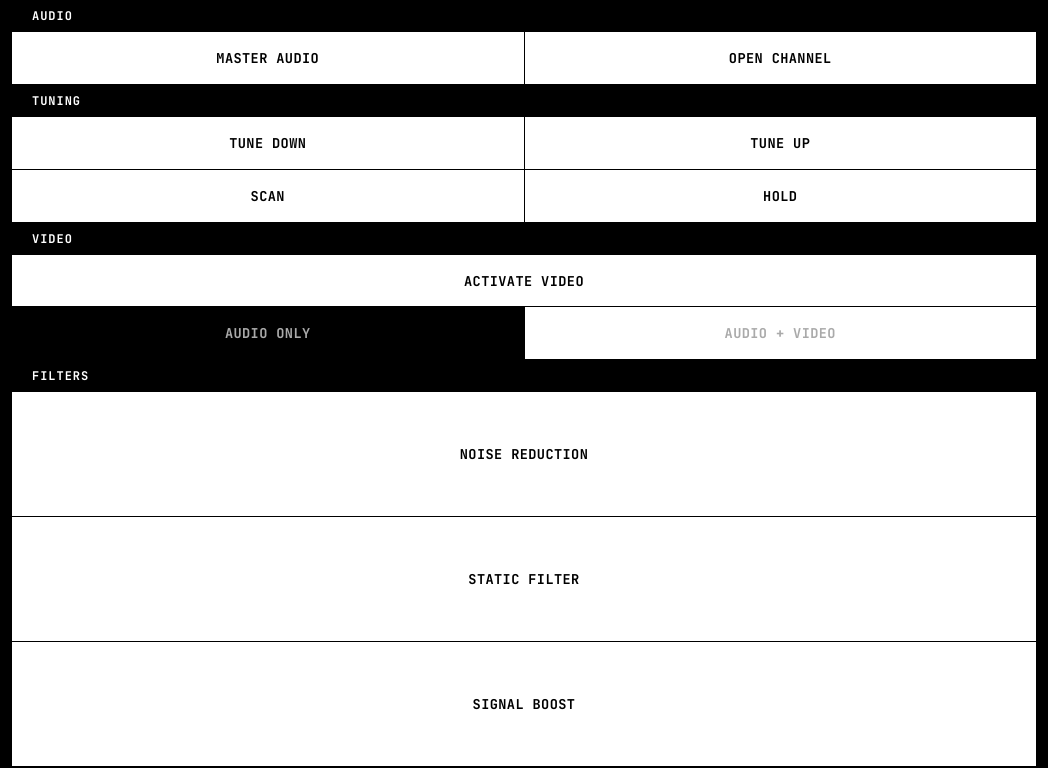
Test: CommsManualPanel › toggles master audio and channel open/closed when comms has power
Click the button "Master Audio". click: point(268, 58)
box: [12, 32, 524, 84]
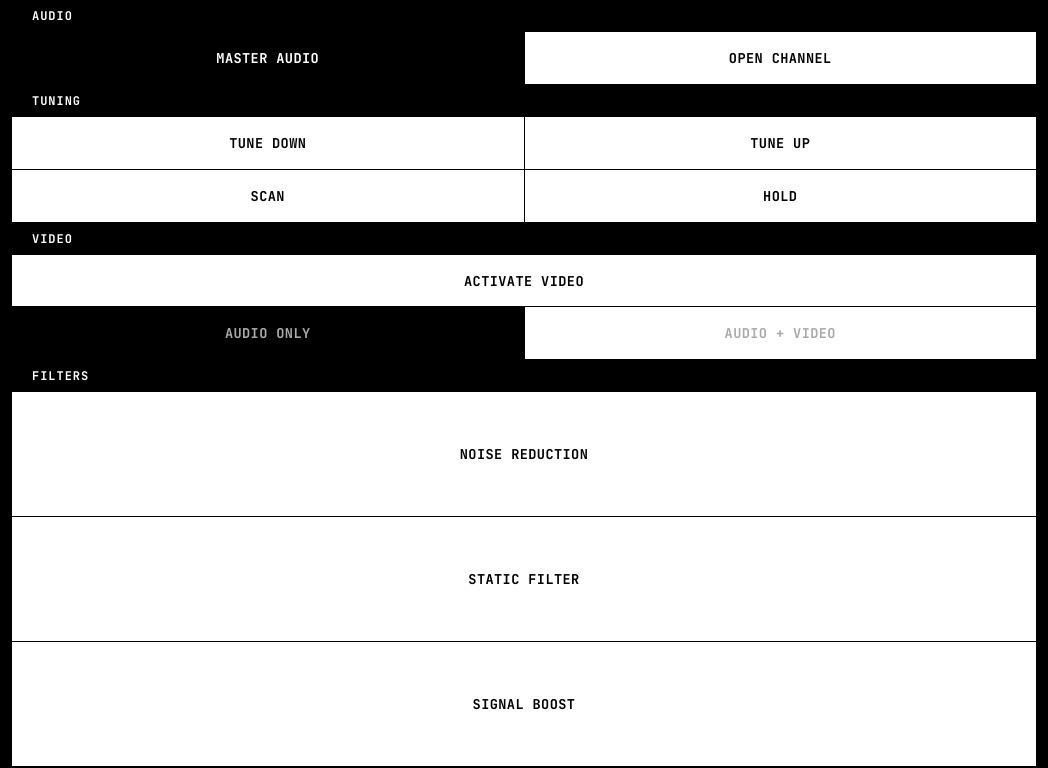
Click the button "Open Channel". click: point(780, 58)
box: [524, 32, 1036, 84]
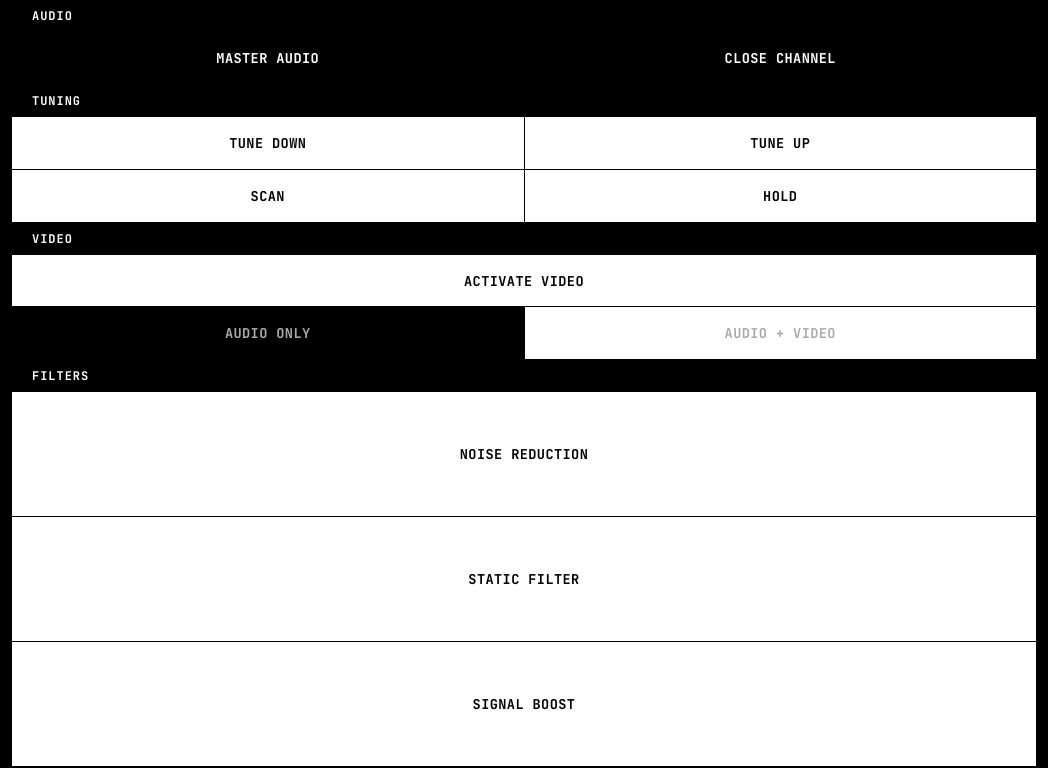
Now the button "Close Channel" is shown, box [524, 32, 1036, 84]
